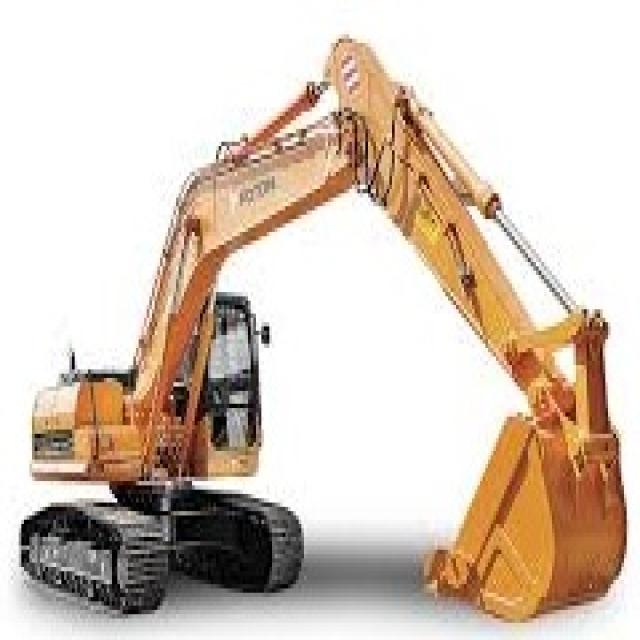excavator: (19, 276, 312, 628)
